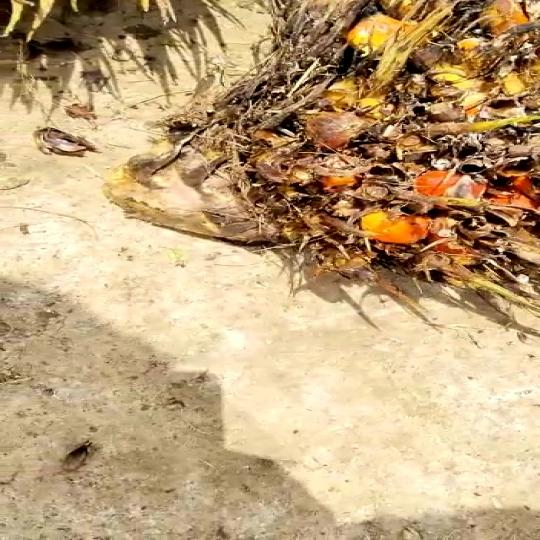terlalu masak: (105, 0, 539, 316)
